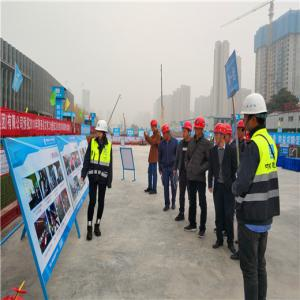red: (215, 123, 227, 145), (195, 116, 207, 137), (183, 122, 193, 140), (225, 123, 234, 143), (238, 121, 247, 139), (162, 125, 171, 141), (151, 119, 159, 132)
white: (243, 94, 269, 133), (95, 119, 109, 141)
